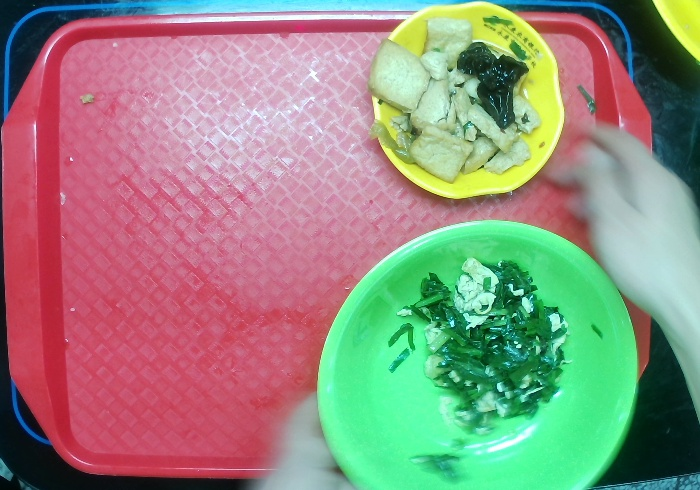YKMZ-Huang_Se_Ao_Bian_Wan: (367, 1, 567, 200)
YKMZ-Lv_Se_Tang_Wan: (311, 217, 643, 490)
